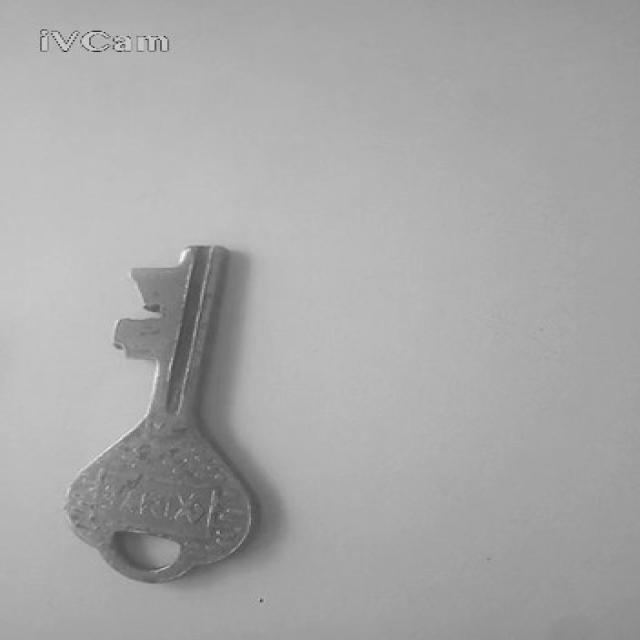key: (65, 247, 253, 583)
